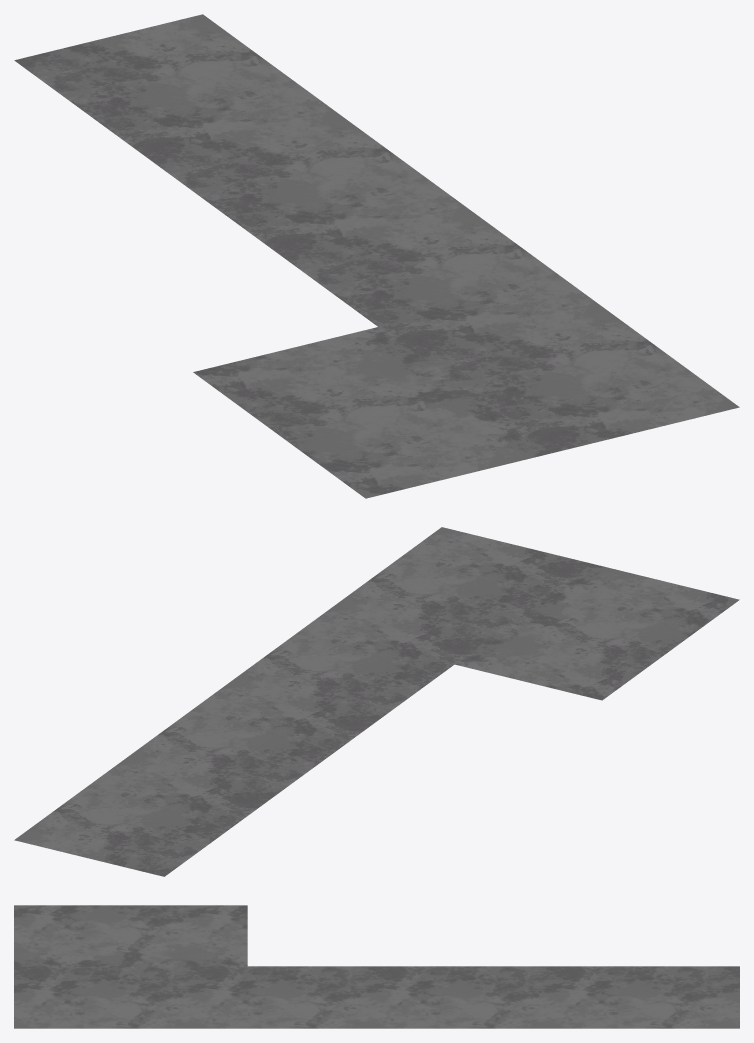
The model's file is Floor.fbx.
The picture shows the model from 3 angles, top to bottom: view 1: azimuth 30°, elevation 25°; view 2: azimuth 150°, elevation 25°; view 3: azimuth 270°, elevation 25°; orthographic projection. The views are drawn at different scales.
Visible parts, largest first — view 1: Floor; view 2: Floor; view 3: Floor.
Boxes of the visible parts, bbox=[...] form: Floor: bbox=[14, 14, 739, 498]; Floor: bbox=[14, 527, 739, 876]; Floor: bbox=[14, 905, 739, 1028].
Size of the model in its own units: 2625 by 0.000285 by 6525.
